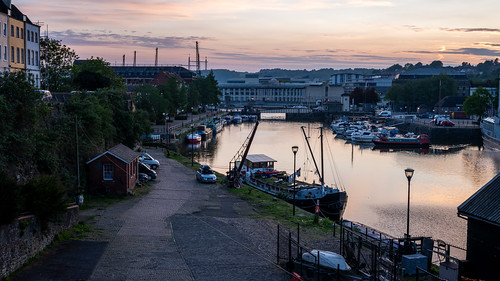boat: (237, 146, 350, 216), (367, 126, 430, 152)
building: (1, 6, 39, 86), (86, 146, 139, 198)
car: (195, 162, 219, 184)
river: (201, 114, 485, 233)
sky: (61, 1, 500, 66)
